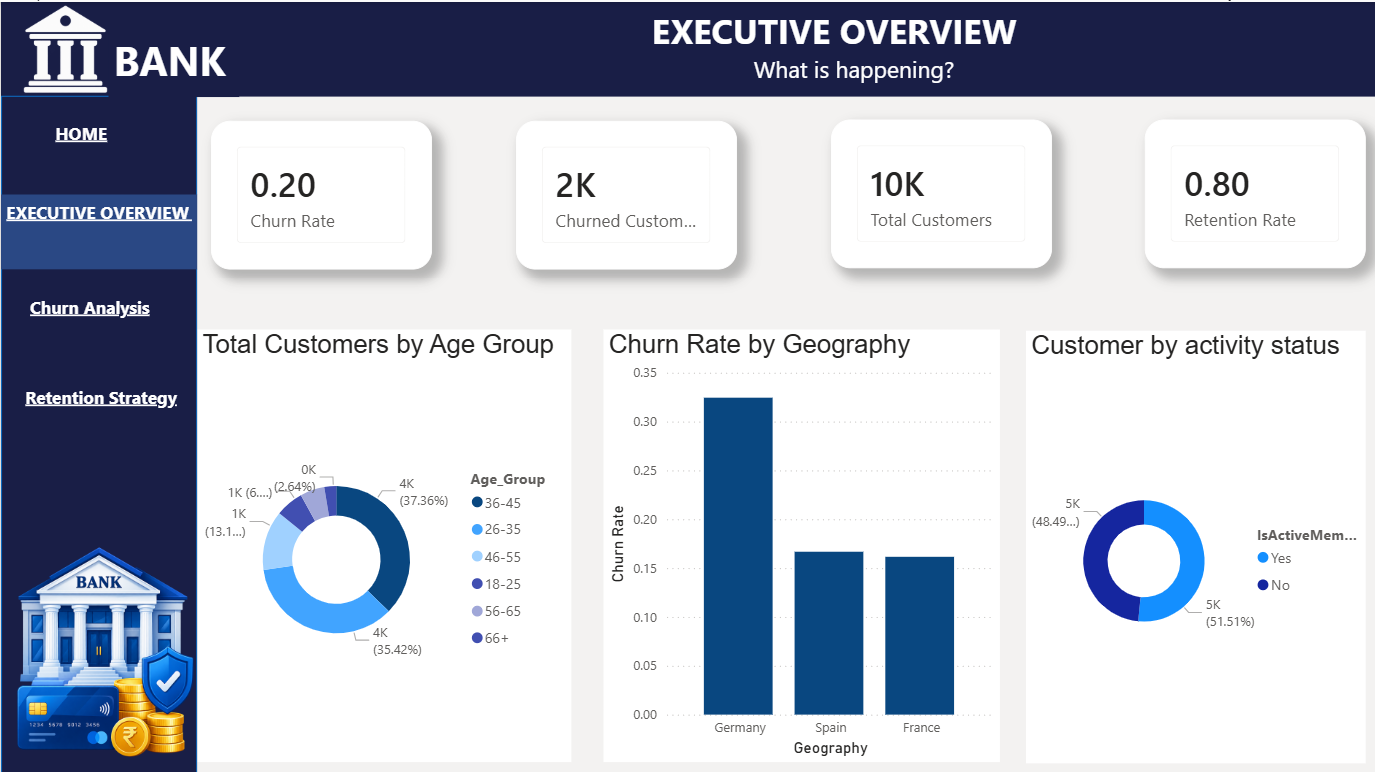

Layout of this report page (visuals, bound fields, positions):
{"tool":"powerbi","page":{"name":"Executive Overview","canvas":[1280,720],"ordinal":1},"visuals":[{"type":"textbox","box":[0,0,1280,87.7],"z":0},{"type":"cardVisual","fields":{"Data":["Bank_Customer_Churn_Cleaned.Retention Rate"]},"box":[1063.9,109.3,205.3,138.1],"z":1000},{"type":"donutChart","title":"Total Customers by Age Group","fields":{"Category":["Bank_Customer_Churn_Cleaned.Age_Group"],"Y":["Bank_Customer_Churn_Cleaned.Total Customers"]},"box":[182.5,305,348.2,402.3],"z":2000},{"type":"clusteredColumnChart","fields":{"Category":["Bank_Customer_Churn_Cleaned.Geography"],"Y":["Bank_Customer_Churn_Cleaned.Churn Rate"]},"box":[560.8,305,368.6,402.3],"z":3000},{"type":"cardVisual","title":"Total Customers","fields":{"Data":["Bank_Customer_Churn_Cleaned.Churn Rate"]},"box":[195.7,110.5,205.3,138.1],"z":4000},{"type":"cardVisual","fields":{"Data":["Bank_Customer_Churn_Cleaned.Churned Customers"]},"box":[479.1,110.5,205.3,138.1],"z":5000},{"type":"cardVisual","fields":{"Data":["Bank_Customer_Churn_Cleaned.Total Customers"]},"box":[772.1,109.3,205.3,138.1],"z":6000},{"type":"donutChart","title":"Customer by activity status","fields":{"Category":["Bank_Customer_Churn_Cleaned.IsActiveMember"],"Y":["Bank_Customer_Churn_Cleaned.Total Customers"]},"box":[953.4,306.2,315.8,402.3],"z":7000},{"type":"shape","box":[0,87.7,182.5,632.8],"z":8000},{"type":"textbox","box":[99.7,24,121.3,63.6],"z":9000},{"type":"image","box":[0,0,120.1,87.7],"z":10000},{"type":"textbox","box":[0,99.7,182.5,51.6],"z":11000},{"type":"textbox","box":[0,178.9,182.5,69.6],"z":12000},{"type":"textbox","box":[0,267.8,182.5,74.4],"z":13000},{"type":"textbox","box":[0,350.6,182.5,70.8],"z":14000},{"type":"image","box":[0,459.9,190.9,260.6],"z":15000}]}

Visuals, with their boxes in screenshot pixels (x1, y1, x2, y2), scaled from the page's 1280x720 canvas onto the 1375x772 screenshot:
textbox: 0, 0, 1374, 94
cardVisual - Bank_Customer_Churn_Cleaned.Retention Rate: 1143, 117, 1363, 265
"Total Customers by Age Group" donutChart: 196, 327, 570, 758
clusteredColumnChart - Bank_Customer_Churn_Cleaned.Geography x Bank_Customer_Churn_Cleaned.Churn Rate: 602, 327, 998, 758
"Total Customers" cardVisual: 210, 118, 431, 267
cardVisual - Bank_Customer_Churn_Cleaned.Churned Customers: 515, 118, 735, 267
cardVisual - Bank_Customer_Churn_Cleaned.Total Customers: 829, 117, 1050, 265
"Customer by activity status" donutChart: 1024, 328, 1363, 760
shape: 0, 94, 196, 771
textbox: 107, 26, 237, 94
image: 0, 0, 129, 94
textbox: 0, 107, 196, 162
textbox: 0, 192, 196, 266
textbox: 0, 287, 196, 367
textbox: 0, 376, 196, 452
image: 0, 493, 205, 771
